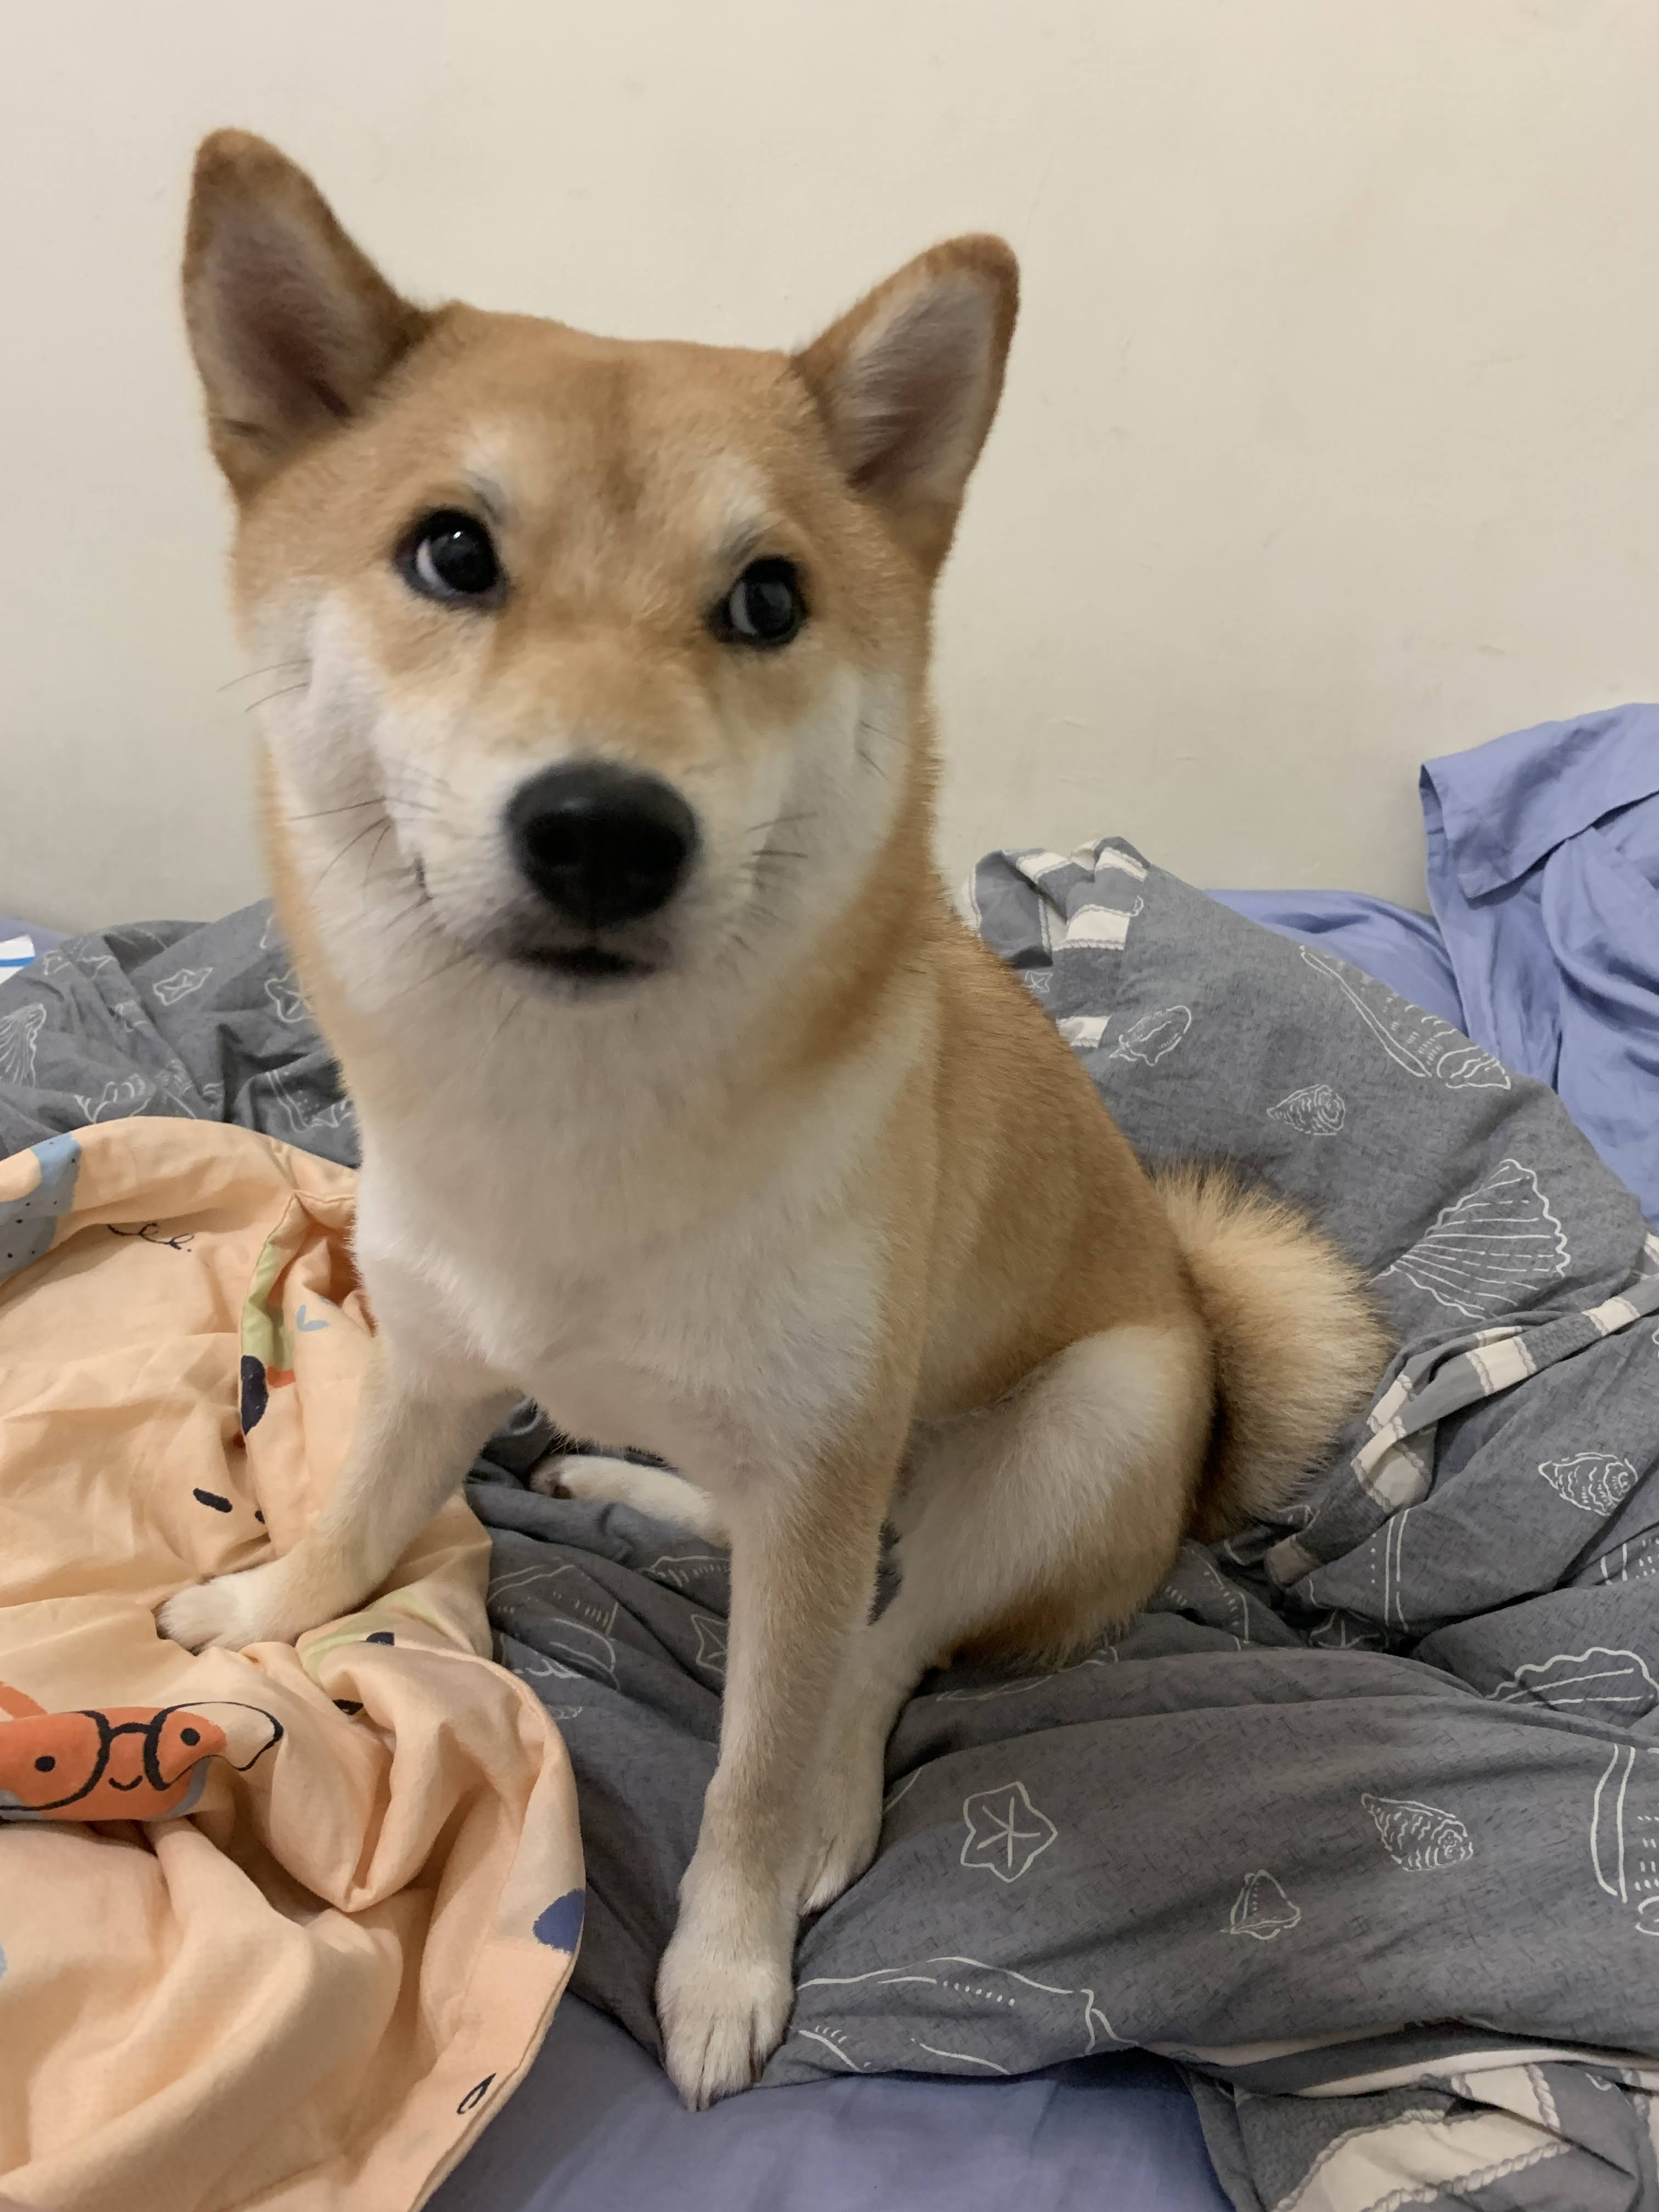Sit down: (155, 108, 1398, 2095)
